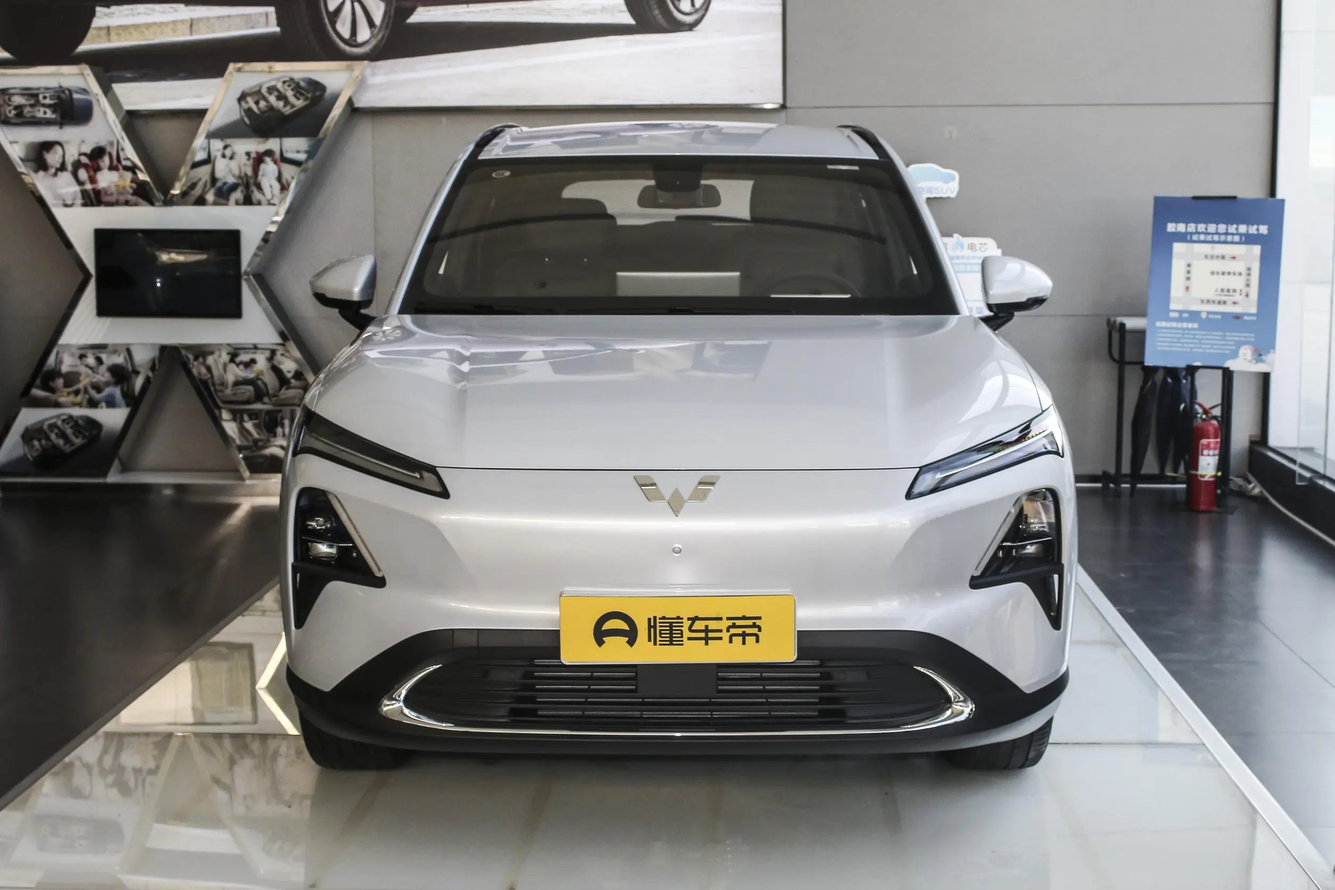SGMW: (634, 475, 720, 516)
